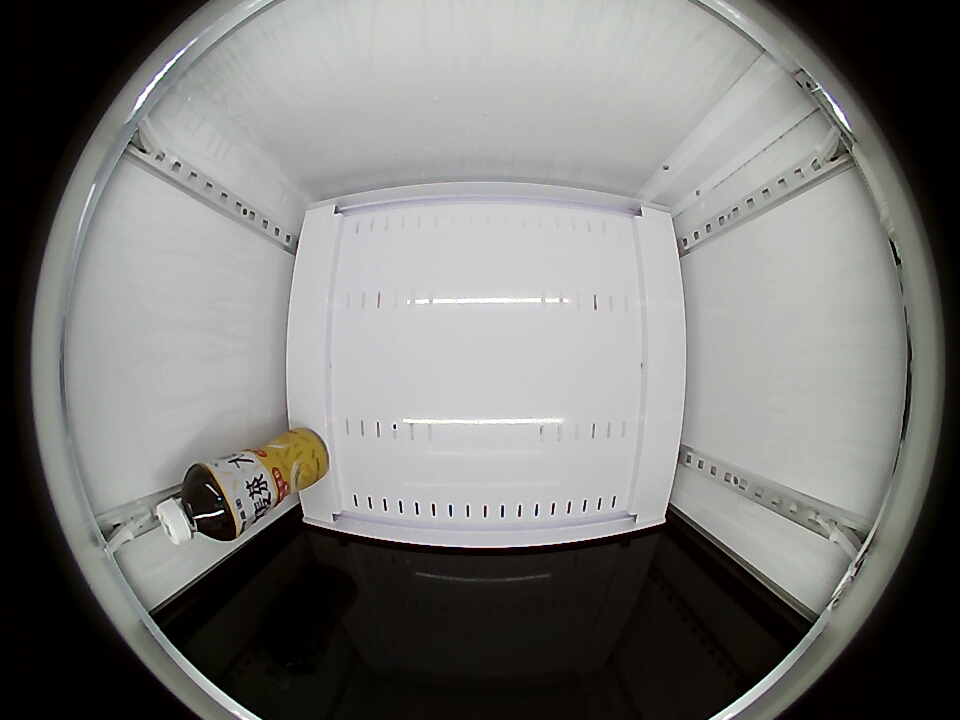damaicha: (155, 464, 239, 546)
